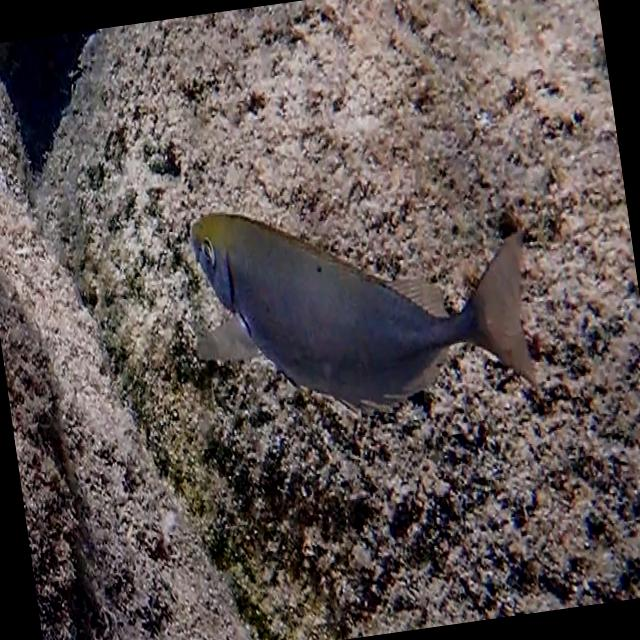Sokar Baligi: (174, 148, 552, 458)
